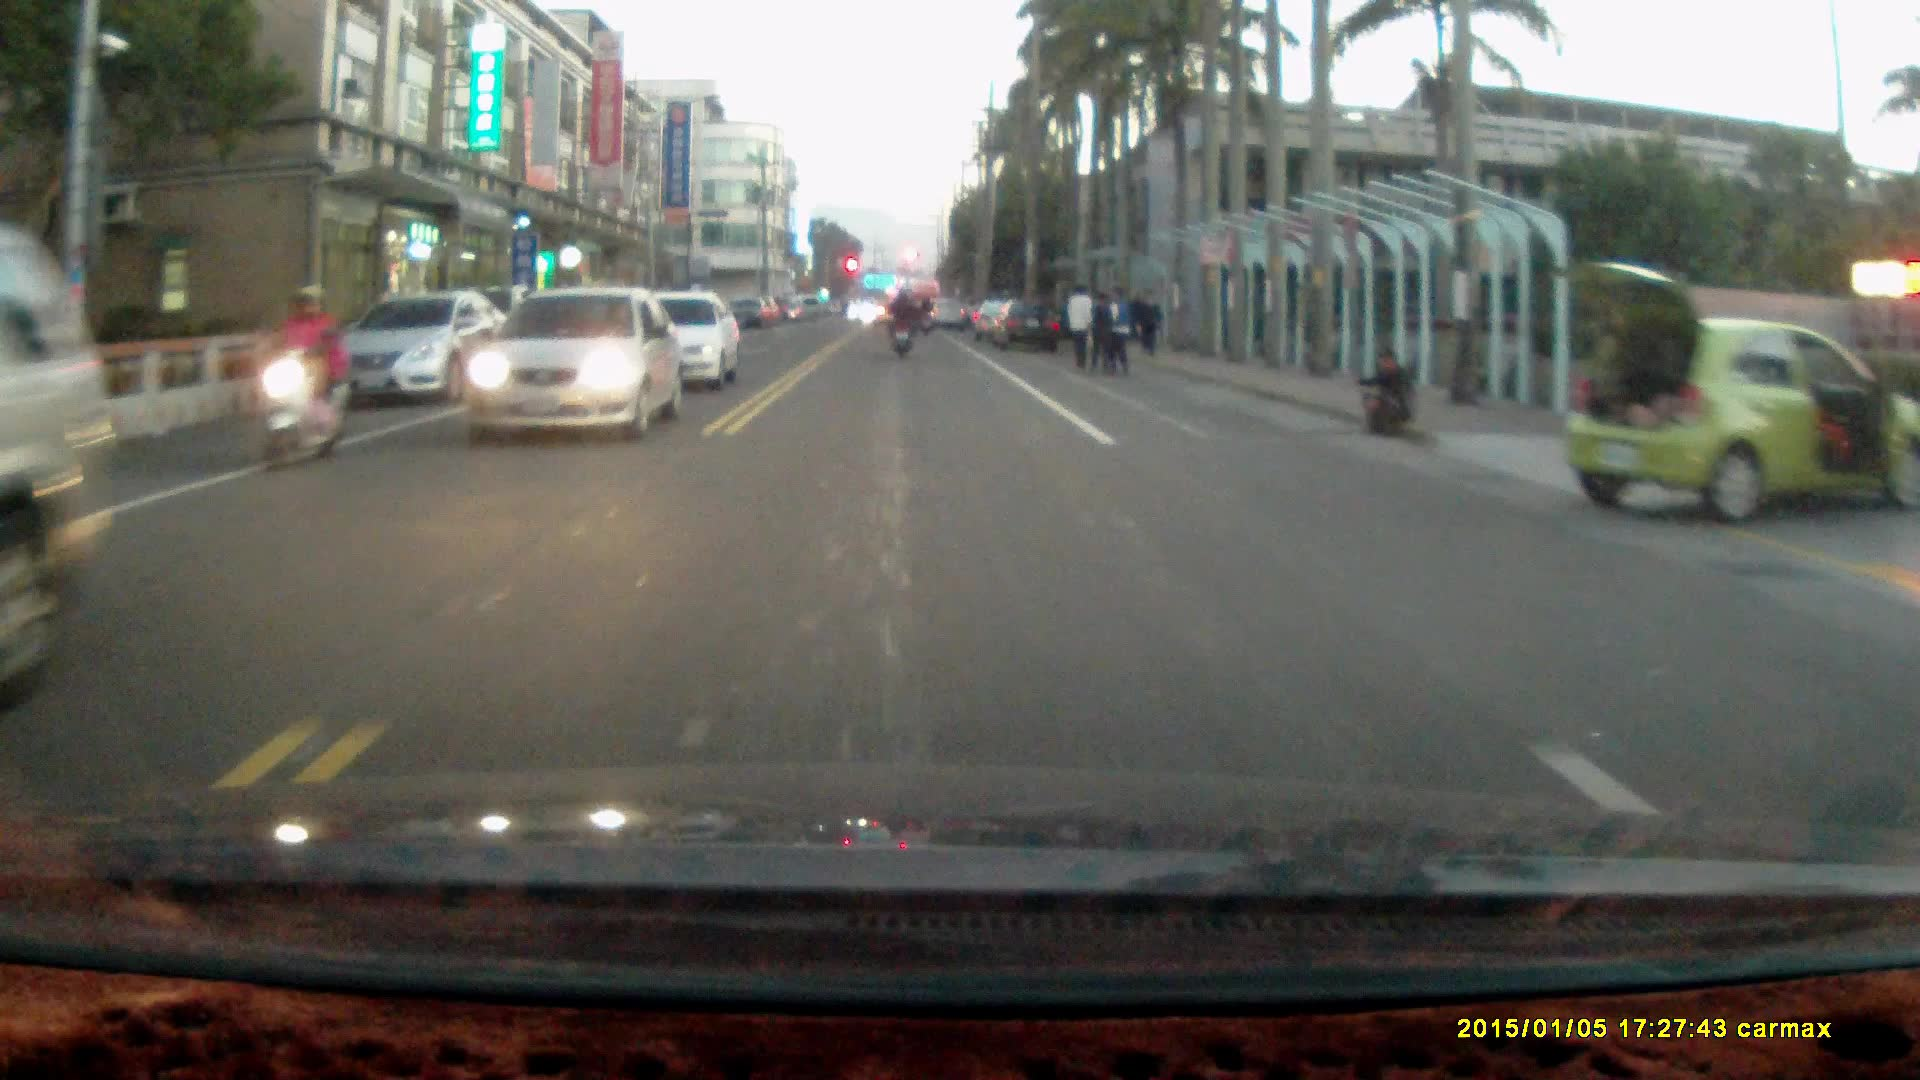pedestrian: (1353, 344, 1417, 437), (1097, 281, 1136, 377), (1066, 278, 1096, 372), (1087, 290, 1116, 377), (1134, 286, 1163, 355)
rider: (258, 282, 354, 470), (883, 285, 917, 361)
vehicle: (1555, 260, 1894, 531), (461, 282, 686, 442), (335, 292, 506, 411), (635, 292, 742, 394), (989, 298, 1065, 351)
